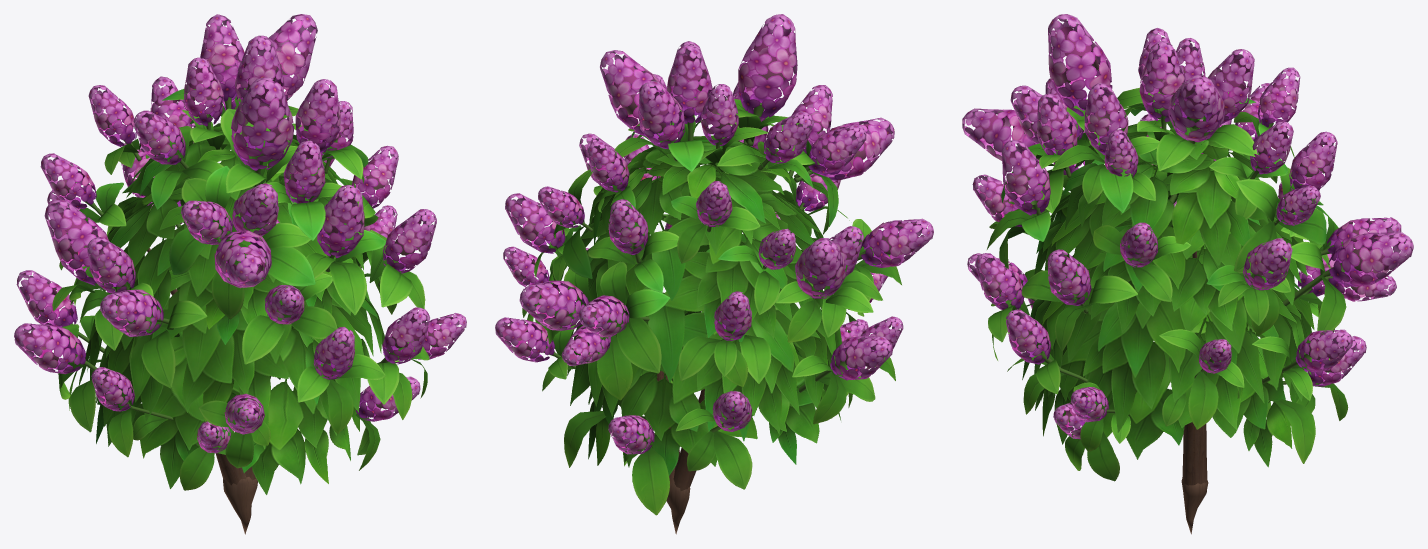
The model's file is SE_Lilac_01a.fbx.
3 views of the same model, side by side, from view 1: azimuth 30°, elevation 25°; view 2: azimuth 150°, elevation 25°; view 3: azimuth 270°, elevation 25° (orthographic). The views are drawn at different scales.
Parts seen in each view (by area): view 1: SE_Lilac_01a; view 2: SE_Lilac_01a; view 3: SE_Lilac_01a.
Boxes of the visible parts, x1,y1,x2,y2 form: SE_Lilac_01a: (14,14,466,534); SE_Lilac_01a: (495,14,933,534); SE_Lilac_01a: (962,14,1413,534).
Bounding box in the file's own units: 4.13 × 5.13 × 4.21.
